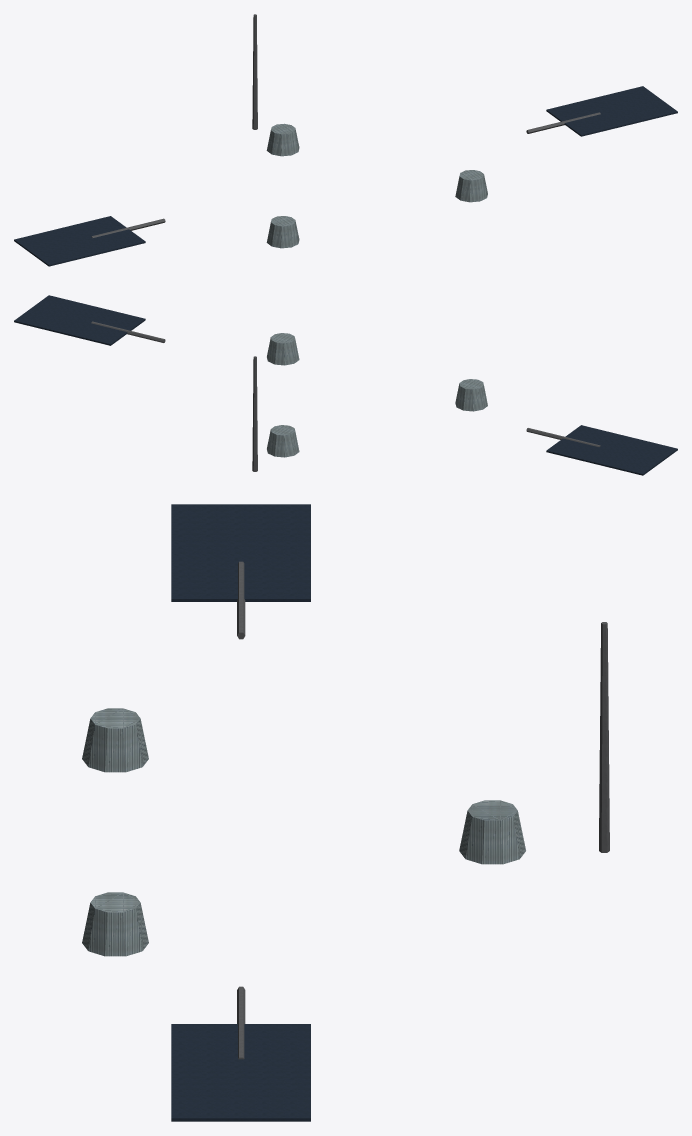
File: skyroute_orbit_01.glb
3 views of the same model, one above another, from view 1: azimuth 30°, elevation 25°; view 2: azimuth 150°, elevation 25°; view 3: azimuth 270°, elevation 25° (orthographic). The views are drawn at different scales.
Visible parts, largest first — view 1: skyroute_orbit_01; view 2: skyroute_orbit_01; view 3: skyroute_orbit_01.
Part boxes in pixels (x1,y1,x2,y2): skyroute_orbit_01: (14,14,677,266); skyroute_orbit_01: (14,295,677,475); skyroute_orbit_01: (82,504,609,1121).
Size of the model in its own units: 52 by 9 by 18.9.
3 materials, 3 textured.
